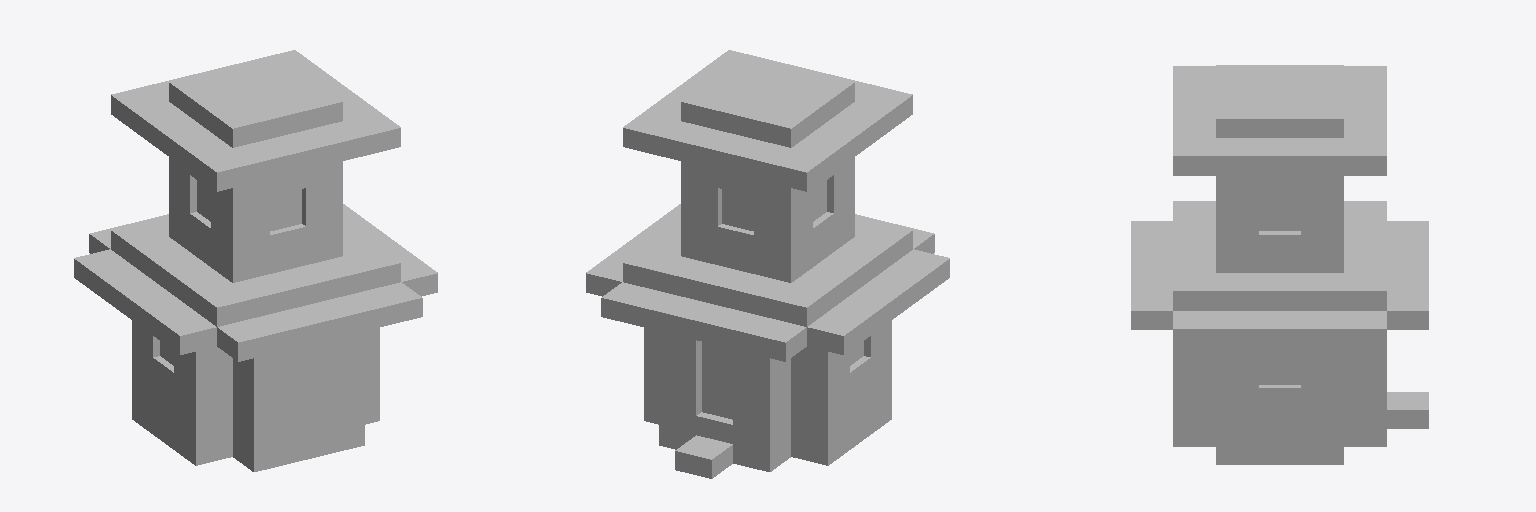
Rendered from hamlet_house_b.obj.
3 views of the same model, side by side, from view 1: azimuth 30°, elevation 25°; view 2: azimuth 150°, elevation 25°; view 3: azimuth 270°, elevation 25° (orthographic).
Visible parts, largest first — view 1: roof, stripped_log, cube, window, stripped, cobble; view 2: roof, stripped_log, cube, door, stairs, window, cobble, stripped; view 3: roof, stripped_log, cube, window, stripped, cobble, stairs.
Boxes of the visible parts, box(x1,y1,x2,y2) form: roof: box(74, 50, 437, 361); stripped_log: box(132, 321, 379, 471); cube: box(169, 157, 342, 282); window: box(160, 180, 301, 365); stripped: box(153, 356, 173, 410); cobble: box(153, 396, 173, 449); roof: box(586, 50, 949, 361); stripped_log: box(644, 321, 891, 471); cube: box(681, 157, 854, 282); door: box(702, 342, 732, 419); stairs: box(675, 435, 732, 478); window: box(722, 180, 863, 365); cobble: box(696, 396, 870, 449); stripped: box(850, 356, 870, 410); roof: box(1131, 65, 1428, 347); stripped_log: box(1173, 348, 1386, 464); cube: box(1216, 176, 1343, 272); window: box(1259, 196, 1300, 384); stripped: box(1259, 348, 1300, 425); cobble: box(1259, 426, 1300, 464); stairs: box(1387, 392, 1428, 428).
Bounding box in the file's own units: 3.5 × 4.25 × 3.5.